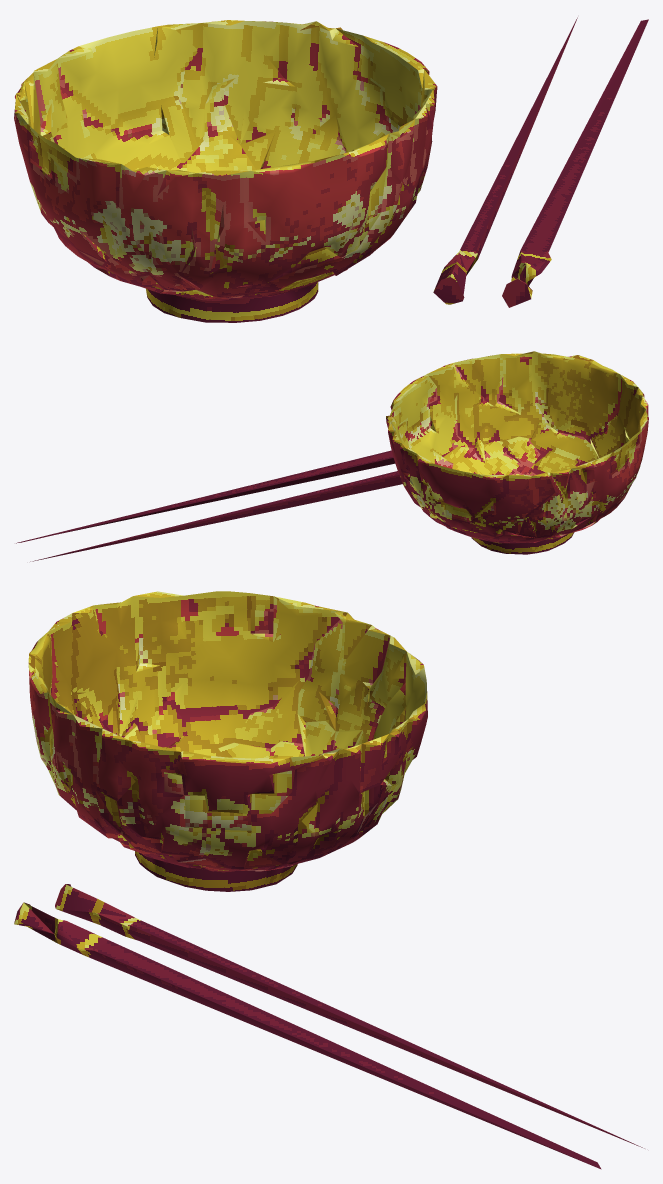
The model's file is rice_bowl2.glb.
The picture shows the model from 3 angles, top to bottom: view 1: azimuth 30°, elevation 25°; view 2: azimuth 150°, elevation 25°; view 3: azimuth 270°, elevation 25°; orthographic projection. The views are drawn at different scales.
Parts seen in each view (by area): view 1: mesh; view 2: mesh; view 3: mesh.
Part boxes in pixels (x1,y1,x2,y2): mesh: [14, 17, 648, 322]; mesh: [16, 351, 648, 561]; mesh: [14, 591, 644, 1169].
Bounding box in the file's own units: 0.2839 × 0.08 × 0.2053.
1 material, 1 textured.
